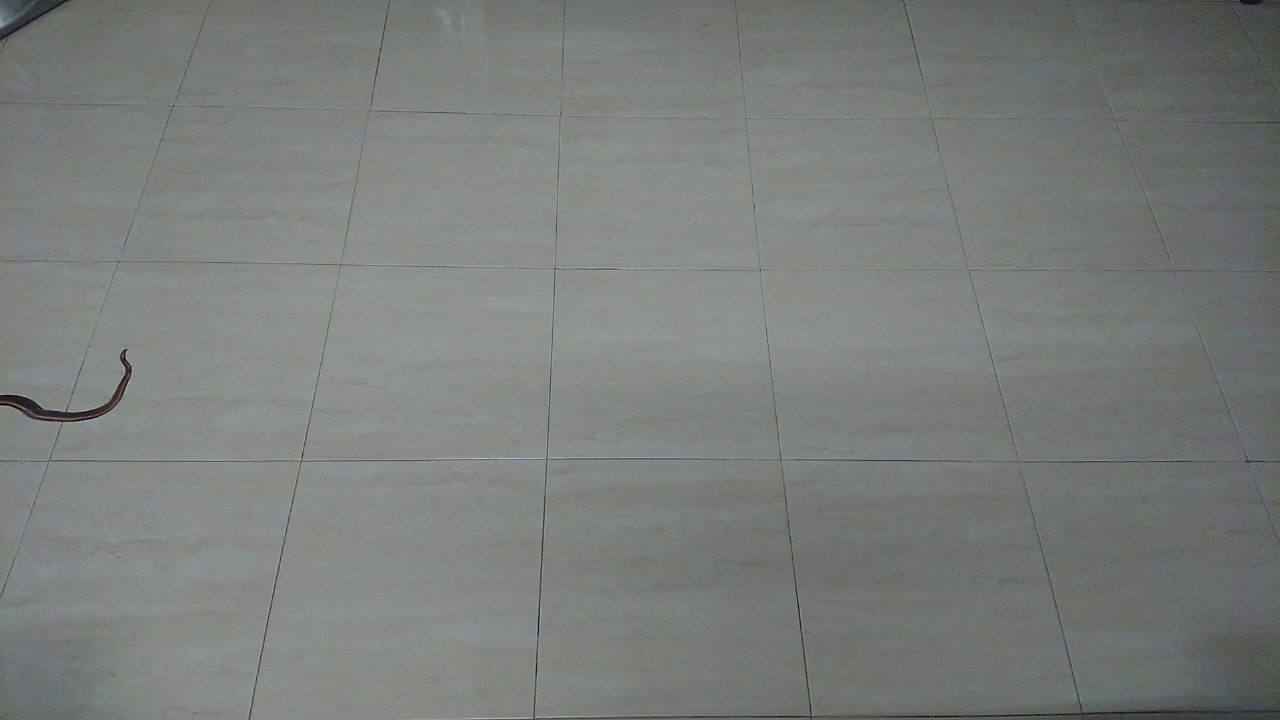snake: (1, 339, 152, 438)
